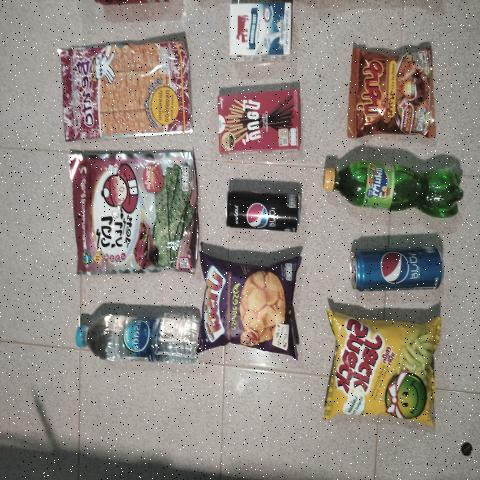bento_red: (60, 37, 188, 142)
crystal: (69, 304, 205, 367)
fanta_green: (318, 156, 478, 219)
mama: (346, 46, 434, 140)
party_purple: (204, 268, 292, 346)
pepsi_black: (225, 186, 303, 231)
pepsi_blue: (351, 240, 444, 294)
pokki: (219, 91, 304, 155)
snack_jack: (330, 320, 438, 413)
taokaenoi: (74, 154, 198, 271)
thai_denmark: (230, 6, 290, 61)
